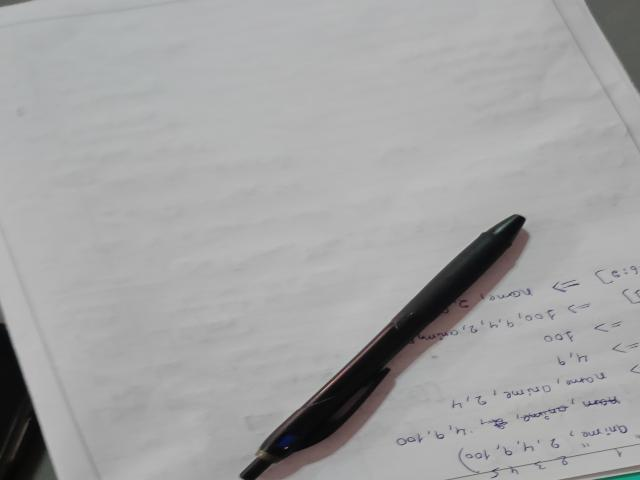PEN: (216, 183, 547, 480)
